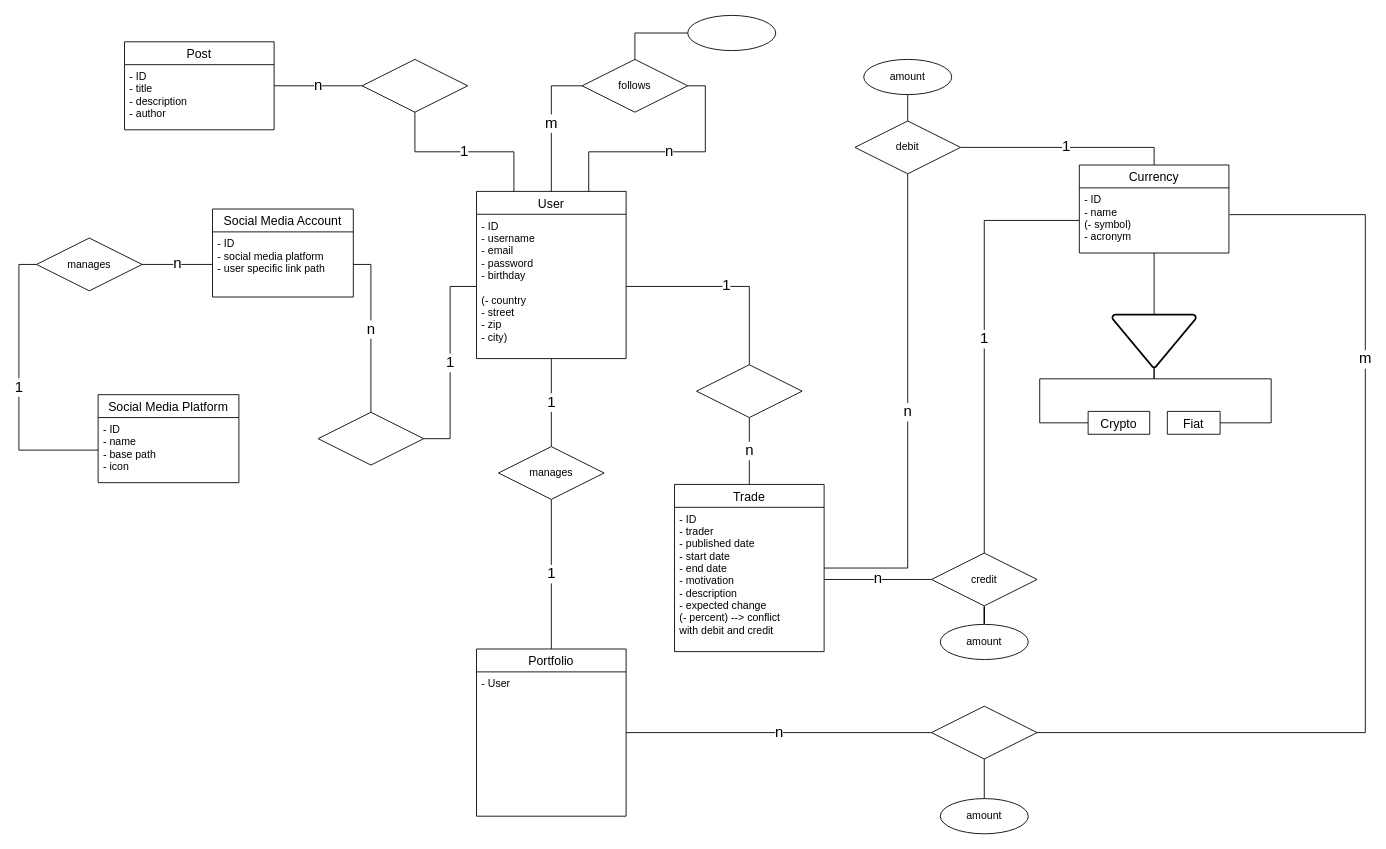
Image size: 1386x849. Some labels were removed from this diagram. The shapes that lost their labels are listed below. From the top down, each one's centre as x and y in pixels, then its label:
(x=731, y=33): date
(x=414, y=85): writes
(x=1153, y=340): IS A
(x=749, y=391): publishes
(x=370, y=438): owns
(x=984, y=732): consists of
